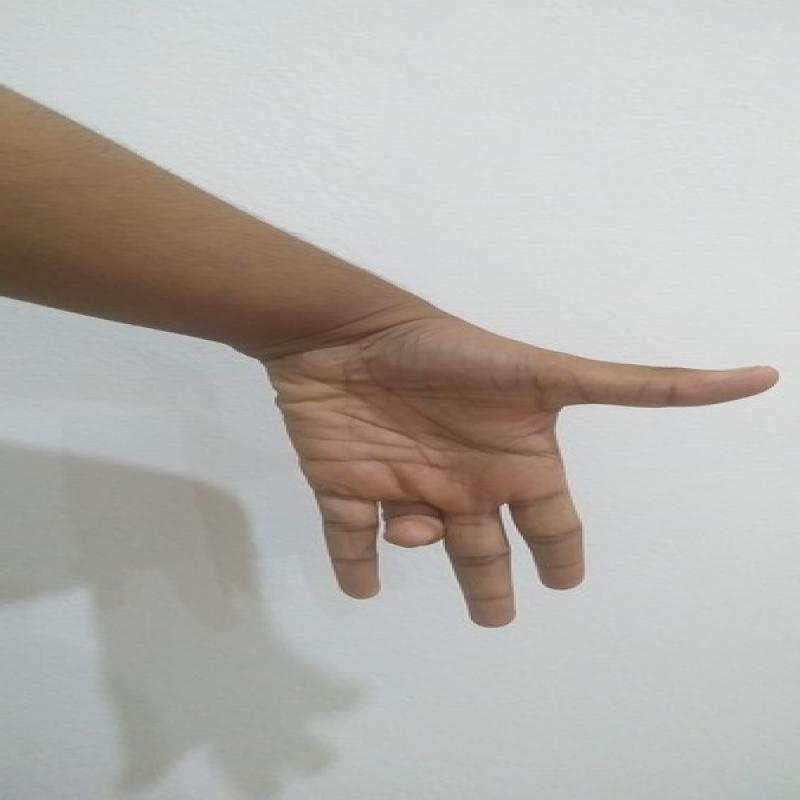Pathaaka: (250, 299, 799, 651)
